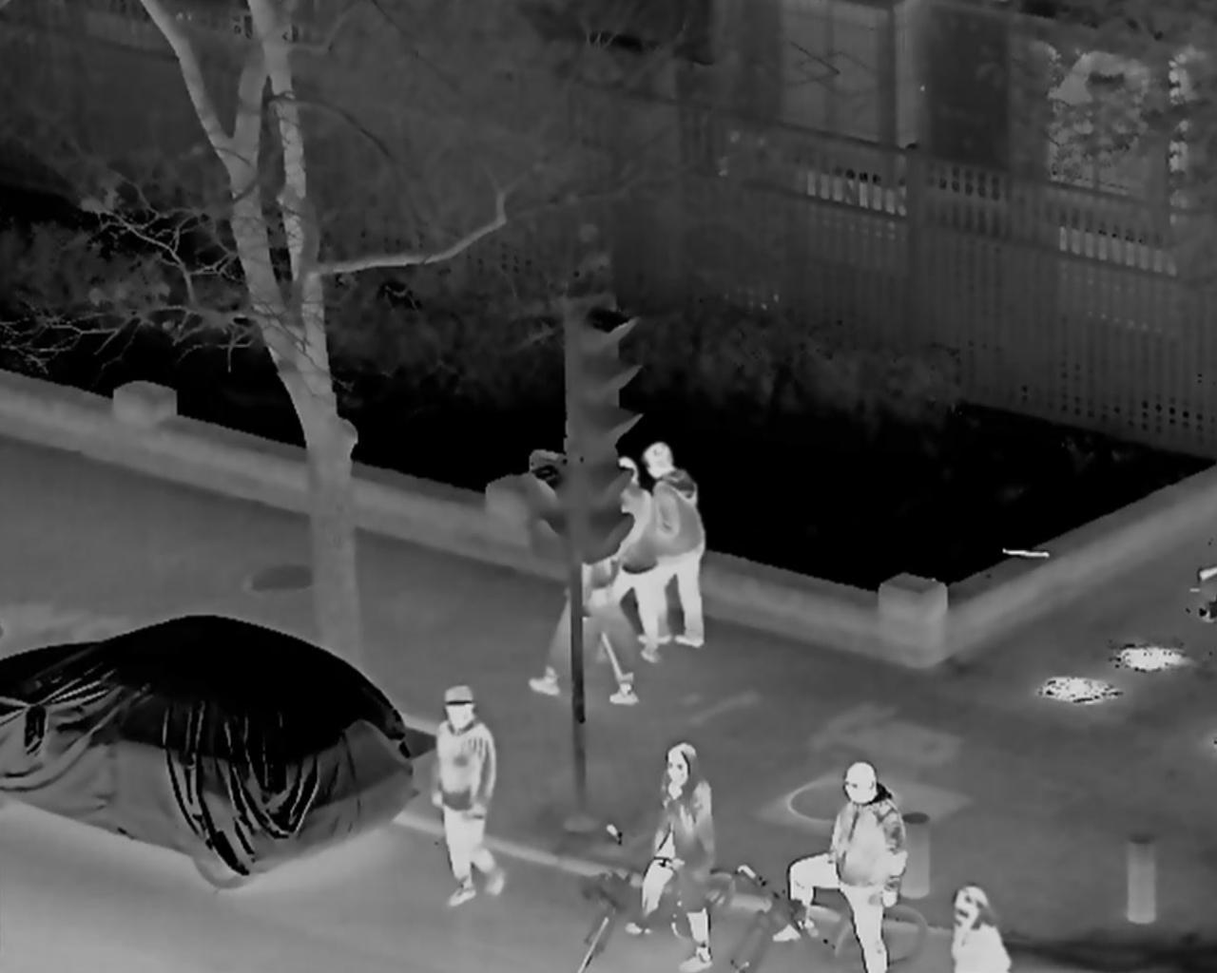person: (773, 759, 908, 973), (541, 467, 641, 704), (628, 742, 713, 969), (636, 443, 714, 652), (584, 459, 661, 663), (432, 689, 502, 903), (938, 883, 1014, 973)
